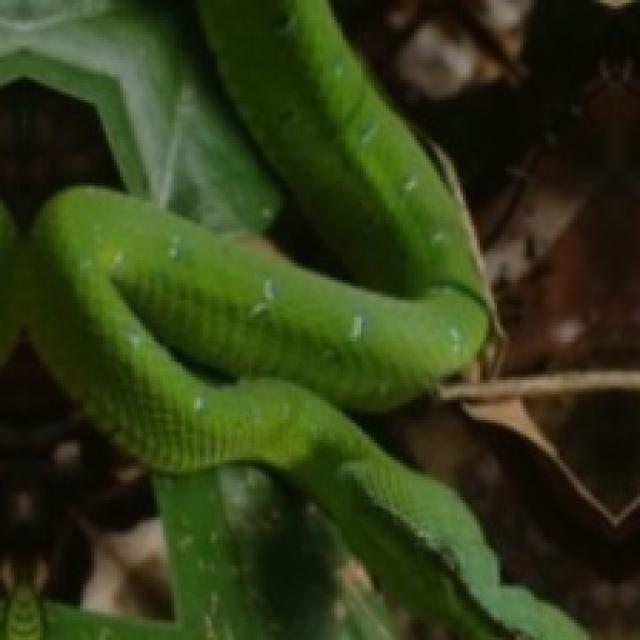north ph temple pitviper: (0, 0, 583, 637), (29, 186, 583, 637)
